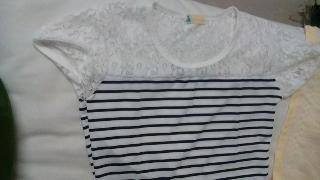short sleeve top: (32, 2, 320, 180)
